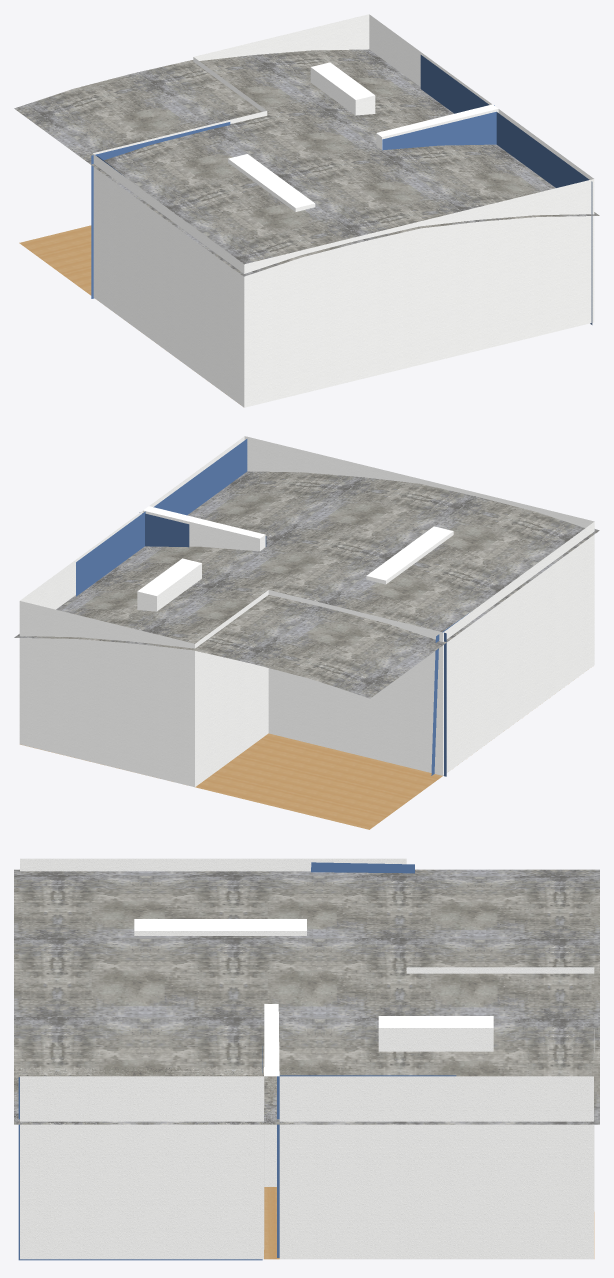
Rendered from Gallery_Sept_10_03.glb.
The picture shows the model from 3 angles, top to bottom: view 1: azimuth 30°, elevation 25°; view 2: azimuth 150°, elevation 25°; view 3: azimuth 270°, elevation 25°; orthographic projection. The views are drawn at different scales.
Visible parts, largest first — view 1: MainWall, ceiling, ArtWall0, Floor, RIghtDivider, Artwall03, Left_Divider, ArtWall01; view 2: MainWall, ceiling, Floor, ArtWall0, Artwall03, RIghtDivider, Left_Divider, ArtWall04, ArtWall02; view 3: ceiling, MainWall, RIghtDivider, Left_Divider, ArtWall02, Floor, Artwall03, ArtWall0.
Part boxes in pixels (box(x1,y1,x2,y2)): MainWall: box(92, 14, 594, 407); ceiling: box(14, 49, 599, 276); ArtWall0: box(382, 111, 592, 324); Floor: box(19, 225, 91, 295); RIghtDivider: box(310, 62, 375, 115); Artwall03: box(420, 55, 488, 113); Left_Divider: box(228, 154, 315, 211); ArtWall01: box(91, 122, 230, 298); MainWall: box(19, 436, 594, 787); ceiling: box(14, 471, 599, 698); Floor: box(20, 733, 442, 829); ArtWall0: box(153, 439, 266, 546); Artwall03: box(76, 511, 145, 596); RIghtDivider: box(137, 558, 201, 611); Left_Divider: box(366, 526, 453, 584); ArtWall04: box(139, 512, 189, 547); ArtWall02: box(431, 613, 468, 775); ceiling: box(14, 869, 599, 1124); MainWall: box(20, 858, 594, 1259); RIghtDivider: box(378, 1016, 493, 1051); Left_Divider: box(134, 919, 306, 935); ArtWall02: box(311, 862, 414, 873); Floor: box(264, 1187, 594, 1259); Artwall03: box(277, 1075, 456, 1257); ArtWall0: box(18, 1046, 262, 1260).
Bounding box in the file's own units: 36.44 × 14.27 × 40.73.
Materials: 45 (43 with a texture image).
